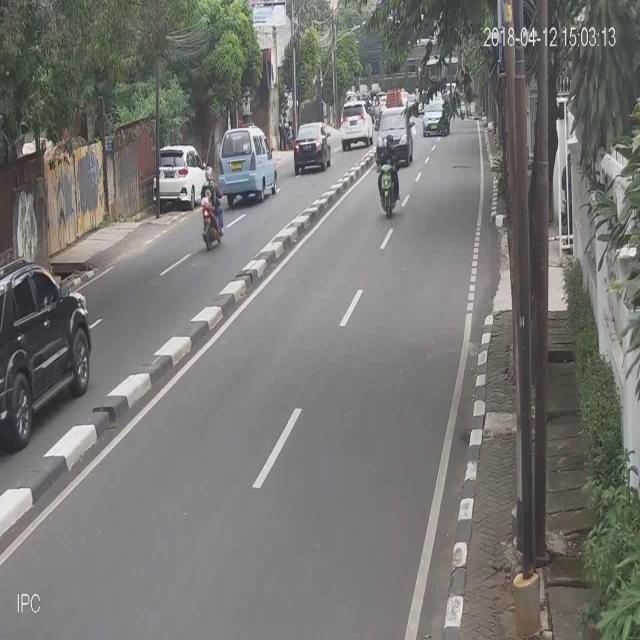bus: (200, 160, 224, 251), (374, 133, 399, 218)
motorcycle: (219, 124, 279, 204), (152, 142, 195, 214), (291, 120, 331, 175)
